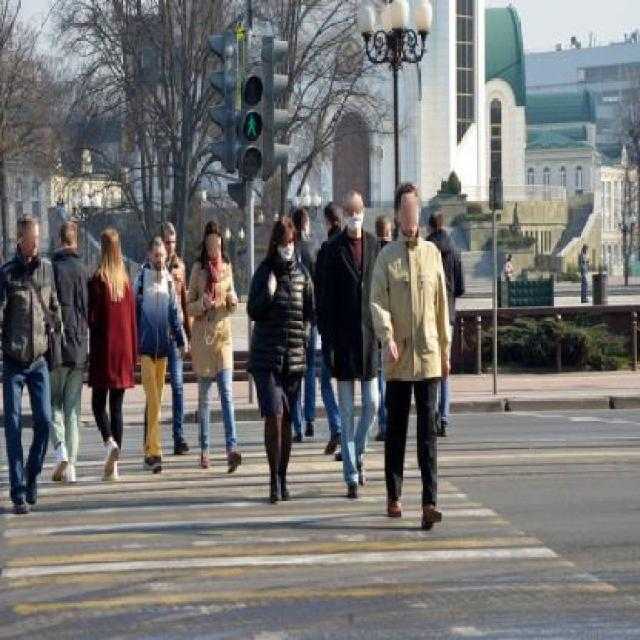sem_oculos: (22, 227, 46, 246), (398, 198, 422, 216), (342, 203, 365, 218), (277, 232, 297, 245), (206, 232, 221, 248), (165, 233, 178, 246), (151, 248, 167, 257)
